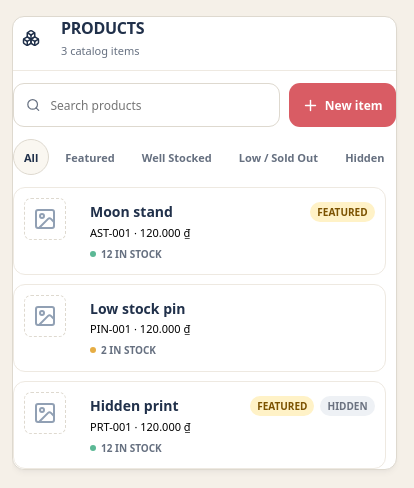
ProductList › exposes understandable pressed filters and applies their stock meaning
The image size is (414, 488).
Click the button "featured". click: click(90, 158)
box: [54,140,126,176]
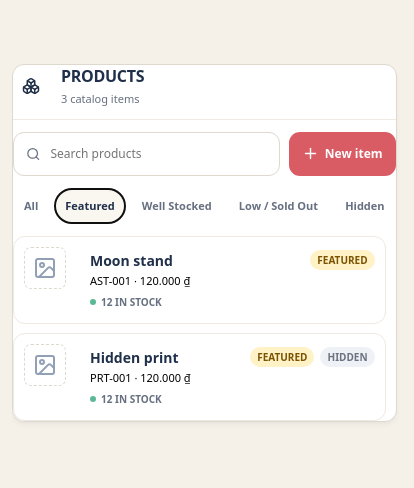
Check: the button "Moon stand Featured AST-001 · 120.000 ₫ 12 in stock" is shown, box [13,236,386,324]
Check: the button "Low stock pin" is gone
Click the button "Well stocked". click: click(177, 206)
box: [131,188,223,224]
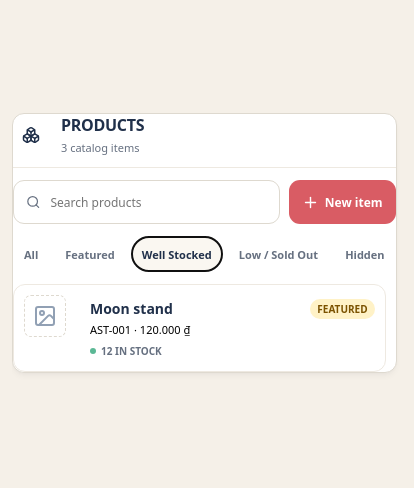
Check: the button "Moon stand Featured AST-001 · 120.000 ₫ 12 in stock" is shown, box [13,284,386,372]
Check: the button "Well stocked" is pressed, box [131,236,223,272]
Click the button "Low / sold out". click: click(278, 254)
box: [228,236,329,272]
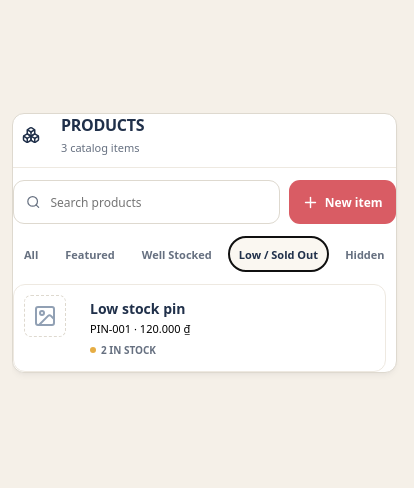
Check: the button "Hidden print" is not shown
Check: the button "Low stock pin PIN-001 · 120.000 ₫ 2 in stock" is shown, box [13,284,386,372]
Click the button "hidden". click: click(365, 254)
box: [334,236,396,272]
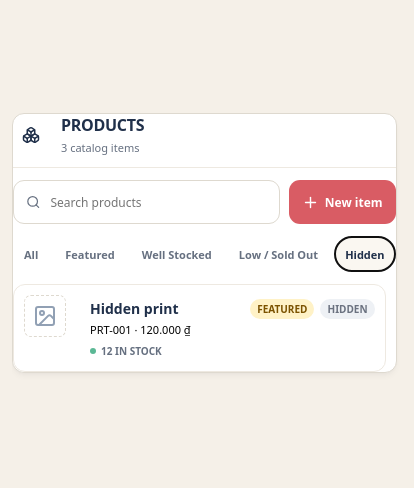
Check: the button "Moon stand" is not shown
Check: the button "Hidden print Featured Hidden PRT-001 · 120.000 ₫ 12 in stock" is shown, box [13,284,386,372]
